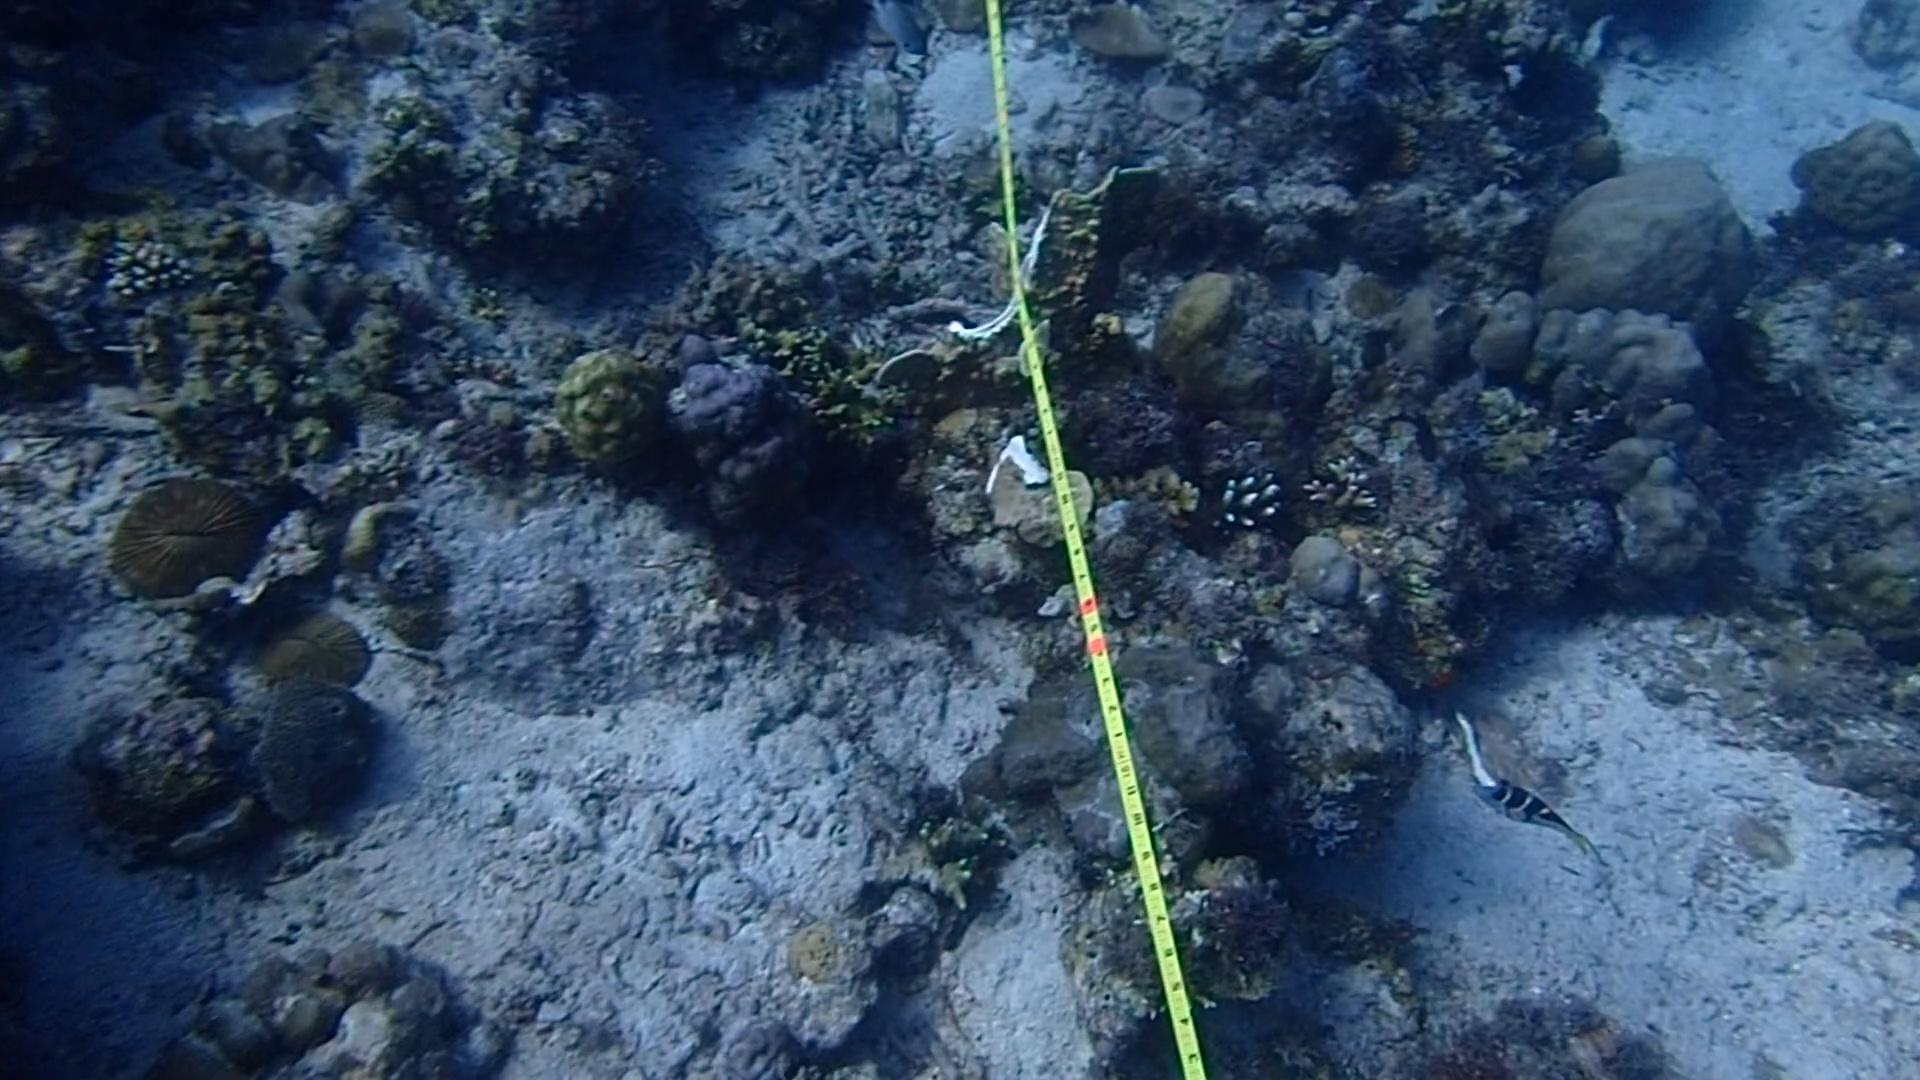Striped Fish: (1470, 767, 1602, 872)
